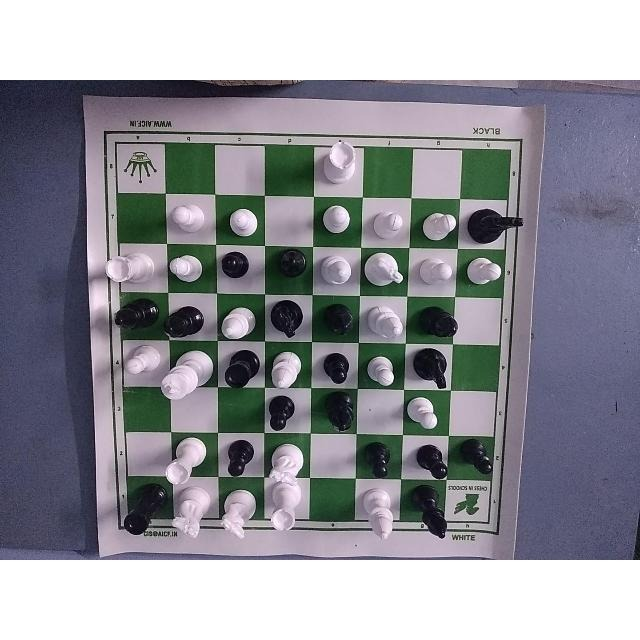black-bishop: (407, 484, 453, 540), (166, 292, 208, 337), (421, 303, 471, 340), (321, 299, 357, 345), (115, 292, 159, 328), (270, 239, 309, 278), (325, 394, 355, 436)
black-knight: (470, 199, 528, 247), (418, 345, 459, 389), (273, 296, 309, 338)
black-pawn: (456, 434, 498, 475), (415, 442, 453, 484), (362, 439, 394, 476), (224, 437, 254, 476), (265, 401, 298, 435), (320, 349, 350, 386), (222, 249, 254, 277)
black-rook: (123, 489, 165, 533), (220, 354, 255, 390)
white-bishop: (361, 487, 399, 545), (217, 295, 257, 339), (365, 301, 405, 344), (268, 343, 304, 390), (318, 248, 358, 290)
white-king: (163, 339, 215, 400)
white-knight: (172, 485, 206, 543), (220, 487, 259, 537), (267, 439, 306, 487), (366, 251, 404, 298)
white-pawn: (367, 198, 412, 242), (168, 198, 212, 240), (403, 391, 443, 433), (167, 248, 205, 292), (421, 199, 456, 244), (222, 199, 261, 237), (464, 252, 503, 288), (416, 250, 451, 289), (319, 195, 352, 235), (369, 344, 399, 388), (126, 342, 155, 386)
white-rook: (315, 139, 360, 187), (104, 246, 152, 289), (264, 486, 306, 535), (165, 438, 208, 484)
